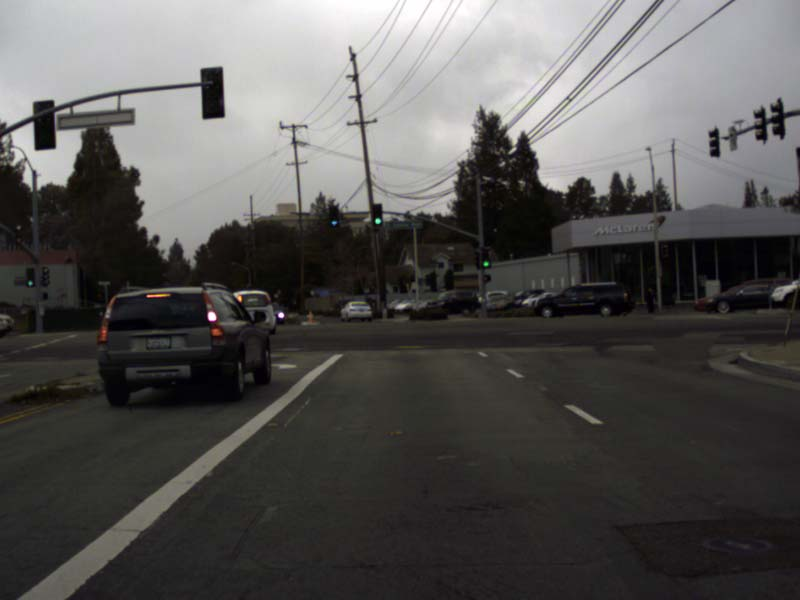Green: (372, 204, 382, 224), (329, 206, 338, 227), (481, 248, 490, 267), (26, 268, 34, 286)
